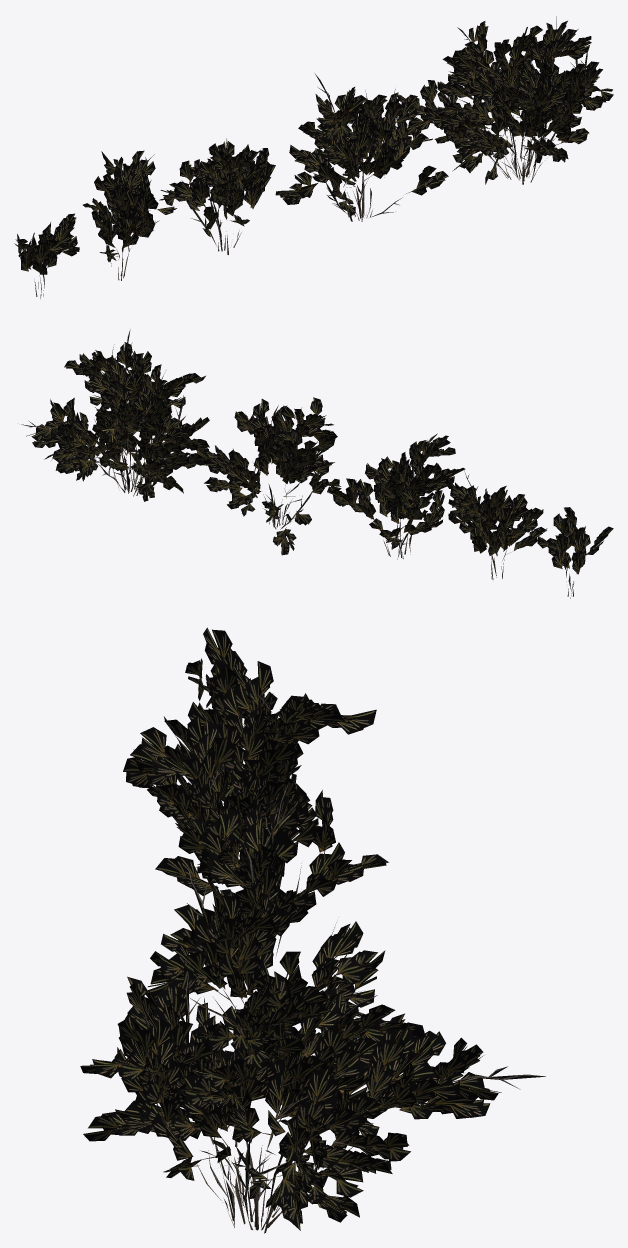
File: wild_rooibos_bush.glb
3 renders of one model, top to bottom at view 1: azimuth 30°, elevation 25°; view 2: azimuth 150°, elevation 25°; view 3: azimuth 270°, elevation 25°, orthographic. The views are drawn at different scales.
Visible parts, largest first — view 1: wild_rooibos_bush_a; view 2: wild_rooibos_bush_a; view 3: wild_rooibos_bush_a.
Part boxes in pixels (x1,y1,x2,y2): wild_rooibos_bush_a: [14, 16, 613, 298]; wild_rooibos_bush_a: [21, 330, 613, 598]; wild_rooibos_bush_a: [80, 627, 545, 1233].
Size of the model in its own units: 2.27 by 0.5329 by 0.8286.
2 materials, 2 textured.
